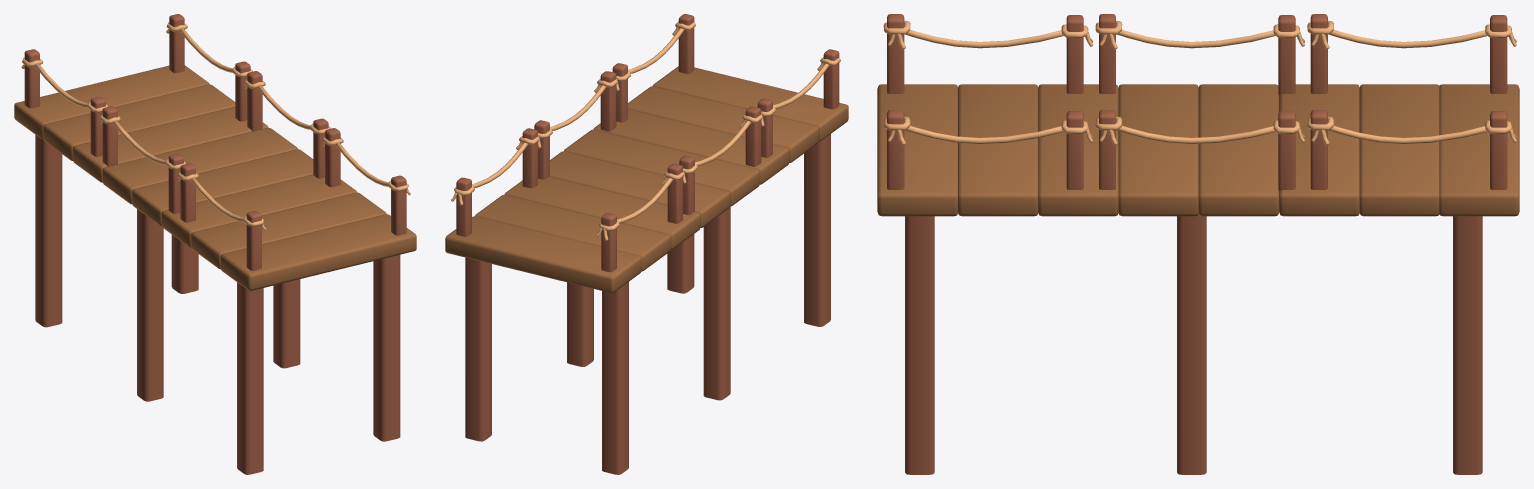
Rendered from Dock_02.fbx.
3 views of the same model, side by side, from view 1: azimuth 30°, elevation 25°; view 2: azimuth 150°, elevation 25°; view 3: azimuth 270°, elevation 25° (orthographic). The views are drawn at different scales.
Parts seen in each view (by area): view 1: Dock_02; view 2: Dock_02; view 3: Dock_02.
Boxes of the visible parts, <box> form: Dock_02: <box>14,14,416,474</box>; Dock_02: <box>445,14,848,474</box>; Dock_02: <box>877,14,1519,474</box>.
Size of the model in its own units: 4097 by 6128 by 9948.
